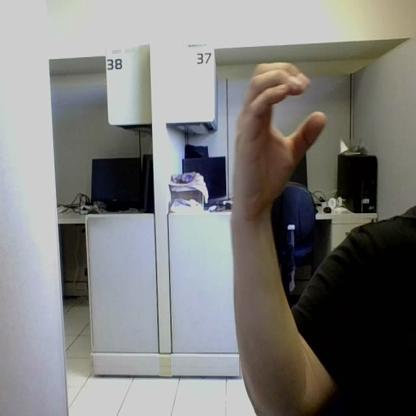C: (236, 61, 326, 211)
